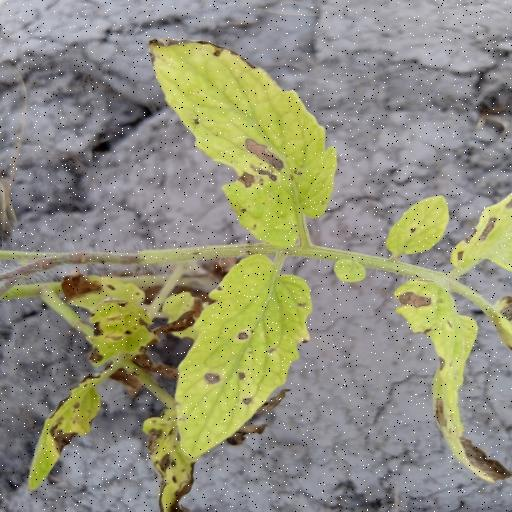Tomato_Brown_Spots: (147, 36, 342, 250), (170, 252, 316, 460)
